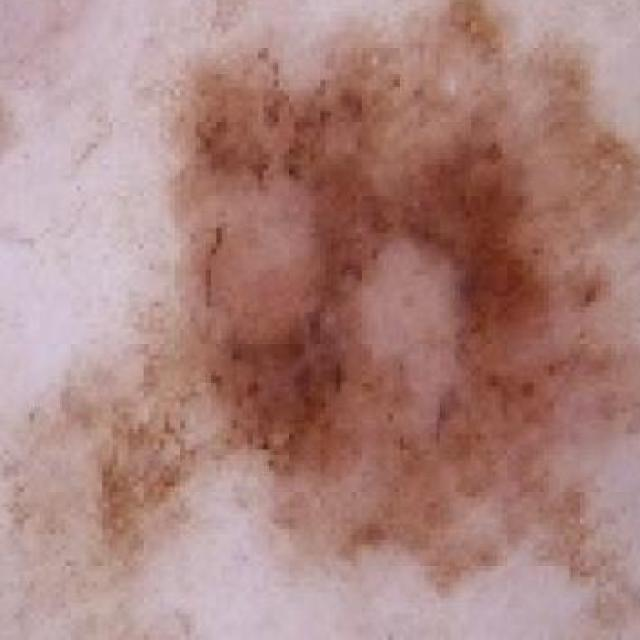BKL: (71, 0, 640, 636)
